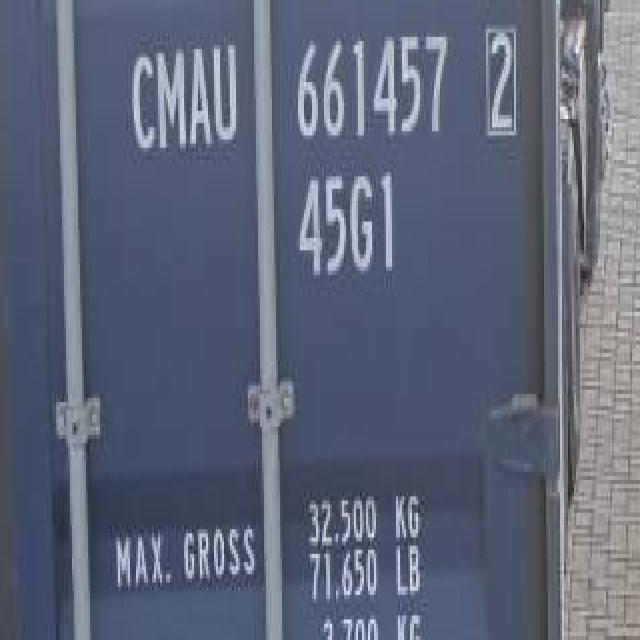dv: (479, 15, 521, 144)
owner: (125, 28, 242, 166)
serial: (288, 21, 453, 150)
size: (292, 165, 402, 288)
